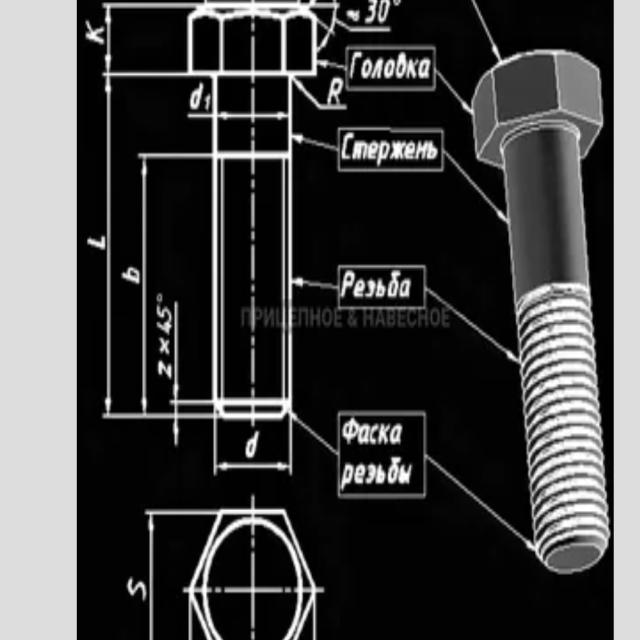marking_line: (102, 67, 213, 425), (135, 151, 214, 425), (98, 0, 187, 76), (142, 507, 188, 637), (166, 302, 210, 410), (212, 423, 293, 477), (466, 0, 502, 61), (294, 76, 351, 113), (297, 411, 338, 457), (293, 130, 339, 161), (294, 271, 341, 301), (337, 12, 393, 35), (318, 56, 345, 71)
numeric: (154, 303, 172, 321), (376, 0, 390, 23), (158, 360, 172, 380), (364, 0, 376, 23), (156, 323, 175, 335)
